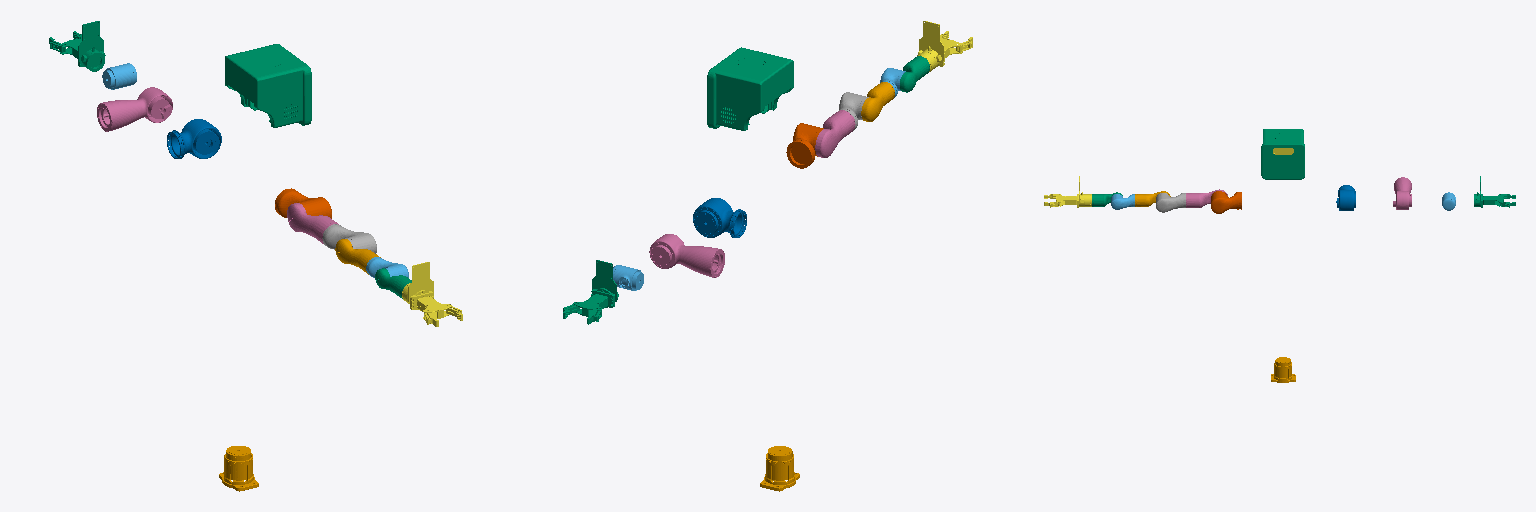
The robot description file, URDF, robot "galbot_zero":
<?xml version="1.0" ?>
<robot name="galbot_zero">
  <link name="base_link">
    <inertial>
      <origin rpy="0 0 0" xyz="-0.0183061749324352 -1.4904125127374741e-05 0.3889560969545909"/>
      <mass value="18.050059314548466"/>
      <inertia ixx="5.2105065675650755" ixy="1.5080528506477166e-05" ixz="0.12678607768682798" iyy="5.216644547377941" iyz="7.222389002032876e-05" izz="0.314062926067317"/>
    </inertial>
    <visual>
      <origin rpy="0 0 0" xyz="0 0 0"/>
      <geometry>
        <mesh filename="meshes/base_link.stl"/>
      </geometry>
    </visual>
    <collision>
      <origin rpy="0 0 0" xyz="0 0 0"/>
      <geometry>
        <mesh filename="meshes/base_link.stl"/>
      </geometry>
    </collision>
  </link>
  <link name="head_yaw_link">
    <inertial>
      <origin rpy="0 0 0" xyz="0.06820030179624514 -0.0016321568736614985 0.014101781277411005"/>
      <mass value="0.25340234743446505"/>
      <inertia ixx="0.00022498681282429766" ixy="1.0369237623121207e-05" ixz="-0.00025294748651236696" iyy="0.0014848109915466358" iyz="5.3644099558619725e-06" izz="0.0014530346564273057"/>
    </inertial>
    <visual>
      <origin rpy="0 0 0" xyz="0 0 0"/>
      <geometry>
        <mesh filename="meshes/head_yaw_link.stl"/>
      </geometry>
    </visual>
    <collision>
      <origin rpy="0 0 0" xyz="0 0 0"/>
      <geometry>
        <mesh filename="meshes/head_yaw_link.stl"/>
      </geometry>
    </collision>
  </link>
  <link name="head_pitch_link">
    <inertial>
      <origin rpy="0 0 0" xyz="0.04921069607675478 0.010020697612954077 -0.03448113175394436"/>
      <mass value="0.5229813008677273"/>
      <inertia ixx="0.004879476325247145" ixy="-0.0008803154082862911" ixz="0.0009116528401589396" iyy="0.005976177224540253" iyz="0.00019983388948636638" izz="0.004910802176394253"/>
    </inertial>
    <visual>
      <origin rpy="0 0 0" xyz="0 0 0"/>
      <geometry>
        <mesh filename="meshes/head_pitch_link.stl"/>
      </geometry>
    </visual>
    <collision>
      <origin rpy="0 0 0" xyz="0 0 0"/>
      <geometry>
        <mesh filename="meshes/head_pitch_link.stl"/>
      </geometry>
    </collision>
  </link>
  <link name="head_camera_normal_frame">
    <inertial>
      <origin rpy="0 0 0" xyz="-0.055819158770717005 0.03207078399156112 0.004746461876374007"/>
      <mass value="0.30425847785970905"/>
      <inertia ixx="0.0005722625171602713" ixy="0.0005435907359242662" ixz="0.00010998543873448614" iyy="0.0014249004679010439" iyz="-4.621729141206071e-05" izz="0.0019375285443785745"/>
    </inertial>
    <visual>
      <origin rpy="0 0 0" xyz="0 0 0"/>
      <geometry>
        <mesh filename="meshes/head_camera_normal_frame.stl"/>
      </geometry>
    </visual>
    <collision>
      <origin rpy="0 0 0" xyz="0 0 0"/>
      <geometry>
        <mesh filename="meshes/head_camera_normal_frame.stl"/>
      </geometry>
    </collision>
  </link>
  <link name="left_arm_link1">
    <inertial>
      <origin rpy="0 0 0" xyz="-1.8082315157300337e-06 0.025208113042973962 -0.021109298810283787"/>
      <mass value="0.5917093465086262"/>
      <inertia ixx="0.0018992347166249277" ixy="2.1077836600119748e-07" ixz="2.192583347370559e-08" iyy="0.0008212284960277407" iyz="0.00010485210281210829" izz="0.001551442663443567"/>
    </inertial>
    <visual>
      <origin rpy="0 0 0" xyz="0 0 0"/>
      <geometry>
        <mesh filename="meshes/left_arm_link1.stl"/>
      </geometry>
    </visual>
    <collision>
      <origin rpy="0 0 0" xyz="0 0 0"/>
      <geometry>
        <mesh filename="meshes/left_arm_link1.stl"/>
      </geometry>
    </collision>
  </link>
  <link name="left_arm_link2">
    <inertial>
      <origin rpy="0 0 0" xyz="4.7558461529355815e-07 0.011079131869898041 0.07610977792971689"/>
      <mass value="0.43101965562613537"/>
      <inertia ixx="0.0038000202916834286" ixy="-1.58475826257549e-08" ixz="-1.0003263590109065e-07" iyy="0.003711363803728775" iyz="-8.620012645509762e-05" izz="0.00036765679170477076"/>
    </inertial>
    <visual>
      <origin rpy="0 0 0" xyz="0 0 0"/>
      <geometry>
        <mesh filename="meshes/left_arm_link2.stl"/>
      </geometry>
    </visual>
    <collision>
      <origin rpy="0 0 0" xyz="0 0 0"/>
      <geometry>
        <mesh filename="meshes/left_arm_link2.stl"/>
      </geometry>
    </collision>
  </link>
  <link name="left_arm_link3">
    <inertial>
      <origin rpy="0 0 0" xyz="3.832811574291255e-06 0.027394508803568817 -0.023526756277268142"/>
      <mass value="0.4298218178574213"/>
      <inertia ixx="0.0013505754367320647" ixy="1.8676202067386035e-07" ixz="8.928194484080295e-08" iyy="0.0005508059763904943" iyz="0.00013526713148197836" izz="0.0010490255666982865"/>
    </inertial>
    <visual>
      <origin rpy="0 0 0" xyz="0 0 0"/>
      <geometry>
        <mesh filename="meshes/left_arm_link3.stl"/>
      </geometry>
    </visual>
    <collision>
      <origin rpy="0 0 0" xyz="0 0 0"/>
      <geometry>
        <mesh filename="meshes/left_arm_link3.stl"/>
      </geometry>
    </collision>
  </link>
  <link name="left_arm_link4">
    <inertial>
      <origin rpy="0 0 0" xyz="9.284039176688636e-07 0.010580628918160888 0.05951966435727961"/>
      <mass value="0.28815020388018014"/>
      <inertia ixx="0.0016863870915502016" ixy="-5.4379594613355064e-08" ixz="7.667178362905002e-08" iyy="0.001631140724678157" iyz="-3.78180343876847e-05" izz="0.0001871714489937342"/>
    </inertial>
    <visual>
      <origin rpy="0 0 0" xyz="0 0 0"/>
      <geometry>
        <mesh filename="meshes/left_arm_link4.stl"/>
      </geometry>
    </visual>
    <collision>
      <origin rpy="0 0 0" xyz="0 0 0"/>
      <geometry>
        <mesh filename="meshes/left_arm_link4.stl"/>
      </geometry>
    </collision>
  </link>
  <link name="left_arm_link5">
    <inertial>
      <origin rpy="0 0 0" xyz="-1.4055029276937529e-06 0.02158323414735352 -0.018030562712124585"/>
      <mass value="0.2384303117553378"/>
      <inertia ixx="0.00047258839568550245" ixy="2.3642665029780124e-08" ixz="-2.6560745650521445e-09" iyy="0.00019648263265040843" iyz="4.8868901268907114e-05" izz="0.00037195688659480907"/>
    </inertial>
    <visual>
      <origin rpy="0 0 0" xyz="0 0 0"/>
      <geometry>
        <mesh filename="meshes/left_arm_link5.stl"/>
      </geometry>
    </visual>
    <collision>
      <origin rpy="0 0 0" xyz="0 0 0"/>
      <geometry>
        <mesh filename="meshes/left_arm_link5.stl"/>
      </geometry>
    </collision>
  </link>
  <link name="left_arm_link6">
    <inertial>
      <origin rpy="0 0 0" xyz="3.052200709923092e-06 0.007390878763545298 0.059299691168438196"/>
      <mass value="0.21768750644272103"/>
      <inertia ixx="0.0011258894382131573" ixy="-2.5612235697124087e-08" ixz="1.690452142623152e-10" iyy="0.0010980802411959705" iyz="-1.7590339033924608e-05" izz="0.00011568983863346714"/>
    </inertial>
    <visual>
      <origin rpy="0 0 0" xyz="0 0 0"/>
      <geometry>
        <mesh filename="meshes/left_arm_link6.stl"/>
      </geometry>
    </visual>
    <collision>
      <origin rpy="0 0 0" xyz="0 0 0"/>
      <geometry>
        <mesh filename="meshes/left_arm_link6.stl"/>
      </geometry>
    </collision>
  </link>
  <link name="left_arm_link7">
    <inertial>
      <origin rpy="0 0 0" xyz="0.005263818360895904 -1.7755223566408122e-06 0.026743016596434337"/>
      <mass value="0.20924926174961364"/>
      <inertia ixx="0.0006644430291370977" ixy="-2.497190557421135e-08" ixz="2.2418793970161514e-06" iyy="0.0006780250240530406" iyz="3.689990768682577e-08" izz="0.00018817084861860424"/>
    </inertial>
    <visual>
      <origin rpy="0 0 0" xyz="0 0 0"/>
      <geometry>
        <mesh filename="meshes/left_arm_link7.stl"/>
      </geometry>
    </visual>
    <collision>
      <origin rpy="0 0 0" xyz="0 0 0"/>
      <geometry>
        <mesh filename="meshes/left_arm_link7.stl"/>
      </geometry>
    </collision>
  </link>
  <link name="left_arm_camera_link">
    <inertial>
      <origin rpy="0 0 0" xyz="-0.0006853326552020429 -0.01744699456421866 -6.766695560775926e-05"/>
      <mass value="0.029505595637465905"/>
      <inertia ixx="3.102168283566917e-05" ixy="7.715963459810774e-08" ixz="2.4993176101446404e-08" iyy="2.1834926546420423e-06" iyz="-3.24878376301454e-08" izz="3.0837700005611334e-05"/>
    </inertial>
    <visual>
      <origin rpy="0 0 0" xyz="0 0 0"/>
      <geometry>
        <mesh filename="meshes/left_arm_camera_link.stl"/>
      </geometry>
    </visual>
    <collision>
      <origin rpy="0 0 0" xyz="0 0 0"/>
      <geometry>
        <mesh filename="meshes/left_arm_camera_link.stl"/>
      </geometry>
    </collision>
  </link>
  <link name="left_gripper_inspire_tcp_frame"/>
  <link name="right_arm_link1">
    <inertial>
      <origin rpy="0 0 0" xyz="-1.8082315157300337e-06 0.025208113042973962 -0.021109298810283787"/>
      <mass value="0.5917093465086262"/>
      <inertia ixx="0.0018992347166249277" ixy="2.1077836600119748e-07" ixz="2.192583347370559e-08" iyy="0.0008212284960277407" iyz="0.00010485210281210829" izz="0.001551442663443567"/>
    </inertial>
    <visual>
      <origin rpy="0 0 0" xyz="0 0 0"/>
      <geometry>
        <mesh filename="meshes/right_arm_link1.stl"/>
      </geometry>
    </visual>
    <collision>
      <origin rpy="0 0 0" xyz="0 0 0"/>
      <geometry>
        <mesh filename="meshes/right_arm_link1.stl"/>
      </geometry>
    </collision>
  </link>
  <link name="right_arm_link2">
    <inertial>
      <origin rpy="0 0 0" xyz="4.7558461529355815e-07 0.011079131869898041 0.07610977792971689"/>
      <mass value="0.43101965562613537"/>
      <inertia ixx="0.0038000202916834286" ixy="-1.58475826257549e-08" ixz="-1.0003263590109065e-07" iyy="0.003711363803728775" iyz="-8.620012645509762e-05" izz="0.00036765679170477076"/>
    </inertial>
    <visual>
      <origin rpy="0 0 0" xyz="0 0 0"/>
      <geometry>
        <mesh filename="meshes/right_arm_link2.stl"/>
      </geometry>
    </visual>
    <collision>
      <origin rpy="0 0 0" xyz="0 0 0"/>
      <geometry>
        <mesh filename="meshes/right_arm_link2.stl"/>
      </geometry>
    </collision>
  </link>
  <link name="right_arm_link3">
    <inertial>
      <origin rpy="0 0 0" xyz="3.832811574291255e-06 0.027394508803568817 -0.023526756277268142"/>
      <mass value="0.4298218178574213"/>
      <inertia ixx="0.0013505754367320647" ixy="1.8676202067386035e-07" ixz="8.928194484080295e-08" iyy="0.0005508059763904943" iyz="0.00013526713148197836" izz="0.0010490255666982865"/>
    </inertial>
    <visual>
      <origin rpy="0 0 0" xyz="0 0 0"/>
      <geometry>
        <mesh filename="meshes/right_arm_link3.stl"/>
      </geometry>
    </visual>
    <collision>
      <origin rpy="0 0 0" xyz="0 0 0"/>
      <geometry>
        <mesh filename="meshes/right_arm_link3.stl"/>
      </geometry>
    </collision>
  </link>
  <link name="right_arm_link4">
    <inertial>
      <origin rpy="0 0 0" xyz="9.284039176688636e-07 0.010580628918160888 0.05951966435727961"/>
      <mass value="0.28815020388018014"/>
      <inertia ixx="0.0016863870915502016" ixy="-5.4379594613355064e-08" ixz="7.667178362905002e-08" iyy="0.001631140724678157" iyz="-3.78180343876847e-05" izz="0.0001871714489937342"/>
    </inertial>
    <visual>
      <origin rpy="0 0 0" xyz="0 0 0"/>
      <geometry>
        <mesh filename="meshes/right_arm_link4.stl"/>
      </geometry>
    </visual>
    <collision>
      <origin rpy="0 0 0" xyz="0 0 0"/>
      <geometry>
        <mesh filename="meshes/right_arm_link4.stl"/>
      </geometry>
    </collision>
  </link>
  <link name="right_arm_link5">
    <inertial>
      <origin rpy="0 0 0" xyz="-1.4055029276937529e-06 0.02158323414735352 -0.018030562712124585"/>
      <mass value="0.2384303117553378"/>
      <inertia ixx="0.00047258839568550245" ixy="2.3642665029780124e-08" ixz="-2.6560745650521445e-09" iyy="0.00019648263265040843" iyz="4.8868901268907114e-05" izz="0.00037195688659480907"/>
    </inertial>
    <visual>
      <origin rpy="0 0 0" xyz="0 0 0"/>
      <geometry>
        <mesh filename="meshes/right_arm_link5.stl"/>
      </geometry>
    </visual>
    <collision>
      <origin rpy="0 0 0" xyz="0 0 0"/>
      <geometry>
        <mesh filename="meshes/right_arm_link5.stl"/>
      </geometry>
    </collision>
  </link>
  <link name="right_arm_link6">
    <inertial>
      <origin rpy="0 0 0" xyz="3.052200709923092e-06 0.007390878763545298 0.059299691168438196"/>
      <mass value="0.21768750644272103"/>
      <inertia ixx="0.0011258894382131573" ixy="-2.5612235697124087e-08" ixz="1.690452142623152e-10" iyy="0.0010980802411959705" iyz="-1.7590339033924608e-05" izz="0.00011568983863346714"/>
    </inertial>
    <visual>
      <origin rpy="0 0 0" xyz="0 0 0"/>
      <geometry>
        <mesh filename="meshes/right_arm_link6.stl"/>
      </geometry>
    </visual>
    <collision>
      <origin rpy="0 0 0" xyz="0 0 0"/>
      <geometry>
        <mesh filename="meshes/right_arm_link6.stl"/>
      </geometry>
    </collision>
  </link>
  <link name="right_arm_link7">
    <inertial>
      <origin rpy="0 0 0" xyz="0.0038195462254072016 -7.034254535710361e-07 0.00796744299173435"/>
      <mass value="0.28822921408167357"/>
      <inertia ixx="0.0008225173989634284" ixy="-1.824675207955165e-08" ixz="2.2146476971979186e-06" iyy="0.0008360829251443675" iyz="3.973481452801185e-08" izz="0.00021750581964641912"/>
    </inertial>
    <visual>
      <origin rpy="0 0 0" xyz="0 0 0"/>
      <geometry>
        <mesh filename="meshes/right_arm_link7.stl"/>
      </geometry>
    </visual>
    <collision>
      <origin rpy="0 0 0" xyz="0 0 0"/>
      <geometry>
        <mesh filename="meshes/right_arm_link7.stl"/>
      </geometry>
    </collision>
  </link>
  <link name="right_arm_camera_link">
    <inertial>
      <origin rpy="0 0 0" xyz="-0.001454941481084525 -0.027958236952732404 -5.766658604256752e-05"/>
      <mass value="0.03451682963405527"/>
      <inertia ixx="5.0329643664006465e-05" ixy="-1.492819965845876e-06" ixz="2.5030742401913274e-08" iyy="2.404438527014989e-06" iyz="-3.210168913278196e-08" izz="5.021589474604031e-05"/>
    </inertial>
    <visual>
      <origin rpy="0 0 0" xyz="0 0 0"/>
      <geometry>
        <mesh filename="meshes/right_arm_camera_link.stl"/>
      </geometry>
    </visual>
    <collision>
      <origin rpy="0 0 0" xyz="0 0 0"/>
      <geometry>
        <mesh filename="meshes/right_arm_camera_link.stl"/>
      </geometry>
    </collision>
  </link>
  <link name="right_gripper_inspire_tcp_frame"/>
  <joint name="head_yaw_joint" type="revolute">
    <origin rpy="0.0 -0.0 1.7484555314694994e-07" xyz="0.046999995 1.324455e-08 1.1241"/>
    <parent link="base_link"/>
    <child link="head_yaw_link"/>
    <axis xyz="0.0 0.0 1.0"/>
    <limit effort="60.0" lower="-1.5707963267948966" upper="1.5707963267948966" velocity="1.5"/>
  </joint>
  <joint name="head_pitch_joint" type="revolute">
    <origin rpy="-1.5707927068048182 -1.5707927068047578 -3.141592653589793" xyz="0.074 -0.0345 0.0146"/>
    <parent link="head_yaw_link"/>
    <child link="head_pitch_link"/>
    <axis xyz="0.0 0.0 1.0"/>
    <limit effort="60.0" lower="-1.2217304763960306" upper="0.05235987755982988" velocity="1.5"/>
  </joint>
  <joint name="head_camera_normal_joint" type="fixed">
    <origin rpy="-1.5707999467850353 0.0 -1.5707999467850353" xyz="0.091 -0.0566 -0.0035"/>
    <parent link="head_pitch_link"/>
    <child link="head_camera_normal_frame"/>
    <axis xyz="0.0 0.0 0.0"/>
  </joint>
  <joint name="left_arm_joint1" type="revolute">
    <origin rpy="3.141592653589793 -1.5707962830835083 8.742277653736308e-08" xyz="0.0469991 0.29050002 0.9205"/>
    <parent link="base_link"/>
    <child link="left_arm_link1"/>
    <axis xyz="-8.742268e-08 1.0 0.0"/>
    <limit effort="60.0" lower="-3.1" upper="3.1" velocity="3.14"/>
  </joint>
  <joint name="left_arm_joint2" type="revolute">
    <origin rpy="1.5707999467850353 0.0 0.0" xyz="0.0 0.0 0.0"/>
    <parent link="left_arm_link1"/>
    <child link="left_arm_link2"/>
    <axis xyz="0.0 1.0 0.0"/>
    <limit effort="60.0" lower="-2.268" upper="2.268" velocity="3.14"/>
  </joint>
  <joint name="left_arm_joint3" type="revolute">
    <origin rpy="-1.5707999467850353 0.0 0.0" xyz="0.0 0.0 0.256"/>
    <parent link="left_arm_link2"/>
    <child link="left_arm_link3"/>
    <axis xyz="0.0 -1.0 0.0"/>
    <limit effort="30.0" lower="-3.1" upper="3.1" velocity="3.92"/>
  </joint>
  <joint name="left_arm_joint4" type="revolute">
    <origin rpy="1.5707999467850353 0.0 0.0" xyz="0.0 0.0 0.0"/>
    <parent link="left_arm_link3"/>
    <child link="left_arm_link4"/>
    <axis xyz="0.0 1.0 0.0"/>
    <limit effort="30.0" lower="-2.355" upper="2.355" velocity="3.92"/>
  </joint>
  <joint name="left_arm_joint5" type="revolute">
    <origin rpy="-1.5707999467850353 0.0 0.0" xyz="0.0 0.0 0.21"/>
    <parent link="left_arm_link4"/>
    <child link="left_arm_link5"/>
    <axis xyz="0.0 -1.0 0.0"/>
    <limit effort="10.0" lower="-3.1" upper="3.1" velocity="3.92"/>
  </joint>
  <joint name="left_arm_joint6" type="revolute">
    <origin rpy="1.5707999467850353 0.0 0.0" xyz="0.0 0.0 0.0"/>
    <parent link="left_arm_link5"/>
    <child link="left_arm_link6"/>
    <axis xyz="0.0 1.0 0.0"/>
    <limit effort="10.0" lower="-2.233" upper="2.233" velocity="3.92"/>
  </joint>
  <joint name="left_arm_joint7" type="revolute">
    <origin rpy="0.0 0.0 0.0" xyz="0.0 0.0 0.144"/>
    <parent link="left_arm_link6"/>
    <child link="left_arm_link7"/>
    <axis xyz="0.0 0.0 1.0"/>
    <limit effort="10.0" lower="-6.28" upper="6.28" velocity="3.92"/>
  </joint>
  <joint name="left_arm_camera_link_joint" type="fixed">
    <origin rpy="-0.7853980821208332 -1.5707962649776583 -2.356194490192345" xyz="0.105000004 -0.02 0.01"/>
    <parent link="left_arm_link7"/>
    <child link="left_arm_camera_link"/>
    <axis xyz="-4.371139e-08 -4.371139e-08 1.0"/>
  </joint>
  <joint name="left_tcp_joint" type="fixed">
    <origin rpy="3.1415925723131846 -1.5707962830835047 -8.12766084376659e-08" xyz="6.0107532e-09 -6.5352905e-09 0.14951"/>
    <parent link="left_arm_link7"/>
    <child link="left_gripper_inspire_tcp_frame"/>
    <axis xyz="0.0 0.0 0.0"/>
  </joint>
  <joint name="right_arm_joint1" type="revolute">
    <origin rpy="-7.239980256035941e-06 -1.5707962830835083 8.742277653736308e-08" xyz="0.04699915 -0.2905 0.9205"/>
    <parent link="base_link"/>
    <child link="right_arm_link1"/>
    <axis xyz="-7.1525574e-06 -1.0 3.164696e-13"/>
    <limit effort="100.0" lower="-3.107" upper="3.107" velocity="1.0"/>
  </joint>
  <joint name="right_arm_joint2" type="revolute">
    <origin rpy="1.5707999467850353 0.0 0.0" xyz="0.0 0.0 0.0"/>
    <parent link="right_arm_link1"/>
    <child link="right_arm_link2"/>
    <axis xyz="0.0 1.0 0.0"/>
    <limit effort="100.0" lower="-2.269" upper="2.269" velocity="1.0"/>
  </joint>
  <joint name="right_arm_joint3" type="revolute">
    <origin rpy="-1.5707999467850353 0.0 0.0" xyz="0.0 0.0 0.256"/>
    <parent link="right_arm_link2"/>
    <child link="right_arm_link3"/>
    <axis xyz="0.0 -1.0 0.0"/>
    <limit effort="100.0" lower="-3.107" upper="3.107" velocity="1.0"/>
  </joint>
  <joint name="right_arm_joint4" type="revolute">
    <origin rpy="1.5707999467850353 0.0 0.0" xyz="0.0 0.0 0.0"/>
    <parent link="right_arm_link3"/>
    <child link="right_arm_link4"/>
    <axis xyz="0.0 1.0 0.0"/>
    <limit effort="100.0" lower="-2.356" upper="2.356" velocity="1.0"/>
  </joint>
  <joint name="right_arm_joint5" type="revolute">
    <origin rpy="-1.5707999467850353 0.0 0.0" xyz="0.0 0.0 0.21"/>
    <parent link="right_arm_link4"/>
    <child link="right_arm_link5"/>
    <axis xyz="0.0 -1.0 0.0"/>
    <limit effort="100.0" lower="-3.107" upper="3.107" velocity="1.0"/>
  </joint>
  <joint name="right_arm_joint6" type="revolute">
    <origin rpy="1.5707999467850353 0.0 0.0" xyz="0.0 0.0 0.0"/>
    <parent link="right_arm_link5"/>
    <child link="right_arm_link6"/>
    <axis xyz="0.0 1.0 0.0"/>
    <limit effort="100.0" lower="-2.234" upper="2.234" velocity="1.0"/>
  </joint>
  <joint name="right_arm_joint7" type="revolute">
    <origin rpy="0.0 0.0 0.0" xyz="0.0 0.0 0.1725"/>
    <parent link="right_arm_link6"/>
    <child link="right_arm_link7"/>
    <axis xyz="0.0 0.0 1.0"/>
    <limit effort="100.0" lower="-6.28" upper="6.28" velocity="1.0"/>
  </joint>
  <joint name="right_arm_camera_link_joint" type="fixed">
    <origin rpy="-0.7853980821208332 -1.5707962649776583 -2.356194490192345" xyz="0.105000004 -0.02 0.01"/>
    <parent link="right_arm_link7"/>
    <child link="right_arm_camera_link"/>
    <axis xyz="-4.371139e-08 -4.371139e-08 1.0"/>
  </joint>
  <joint name="right_tcp_joint" type="fixed">
    <origin rpy="3.1415925723131846 -1.5707962830835047 -8.12766084376659e-08" xyz="6.0107532e-09 -6.5352905e-09 0.14951"/>
    <parent link="right_arm_link7"/>
    <child link="right_gripper_inspire_tcp_frame"/>
    <axis xyz="0.0 0.0 0.0"/>
  </joint>
</robot>

--- Facts derived from the render (not from the file) ---
The picture shows the robot from 3 angles, left to right: view 1: azimuth 30°, elevation 25°; view 2: azimuth 150°, elevation 25°; view 3: azimuth 270°, elevation 25°; orthographic projection.
Robot: galbot_zero — 22 links, 21 joints (16 revolute, 5 fixed); root link base_link; default pose: all joints at 0.
Visible links, largest first — view 1: head_pitch_link, left_arm_link3, right_arm_link7, left_arm_link1, left_arm_link7, base_link, right_arm_link2, right_arm_link1, right_arm_link3, right_arm_link4, left_arm_link6, right_arm_link6; view 2: head_pitch_link, left_arm_link3, left_arm_link1, left_arm_link7, right_arm_link7, base_link, right_arm_link2, right_arm_link1, right_arm_link4, right_arm_link6, left_arm_link6; view 3: head_pitch_link, right_arm_link1, right_arm_link7, left_arm_link3.
Link boxes in pixels (bbox=[...]): head_pitch_link: bbox=[225, 44, 311, 127]; left_arm_link3: bbox=[97, 87, 172, 131]; right_arm_link7: bbox=[402, 262, 462, 326]; left_arm_link1: bbox=[167, 119, 221, 158]; left_arm_link7: bbox=[49, 21, 105, 71]; base_link: bbox=[219, 446, 258, 491]; right_arm_link2: bbox=[287, 203, 338, 243]; right_arm_link1: bbox=[275, 188, 331, 218]; right_arm_link3: bbox=[322, 224, 376, 253]; right_arm_link4: bbox=[335, 239, 380, 274]; left_arm_link6: bbox=[102, 63, 136, 89]; right_arm_link6: bbox=[375, 268, 411, 298]; head_pitch_link: bbox=[707, 47, 793, 130]; left_arm_link3: bbox=[649, 234, 724, 277]; left_arm_link1: bbox=[693, 198, 746, 237]; left_arm_link7: bbox=[563, 260, 618, 324]; right_arm_link7: bbox=[917, 21, 972, 71]; base_link: bbox=[760, 446, 799, 491]; right_arm_link2: bbox=[815, 110, 855, 157]; right_arm_link1: bbox=[786, 123, 823, 168]; right_arm_link4: bbox=[861, 82, 894, 121]; right_arm_link6: bbox=[900, 56, 929, 92]; left_arm_link6: bbox=[613, 265, 643, 290]; head_pitch_link: bbox=[1261, 129, 1304, 179]; right_arm_link1: bbox=[1211, 191, 1241, 213]; right_arm_link7: bbox=[1044, 176, 1091, 207]; left_arm_link3: bbox=[1393, 177, 1411, 209].
Bounding box of the posed robot: 0.2934 × 2.15 × 1.27 m (x, y, z).
Meshes: 20 distinct files referenced, 14 mesh visuals loaded (14 binary STL); not drawn: 6 (reference not matched to a file when rendering).